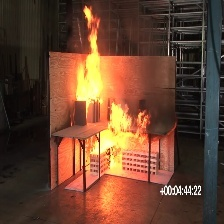fire: (87, 102, 150, 155), (77, 4, 105, 101)
